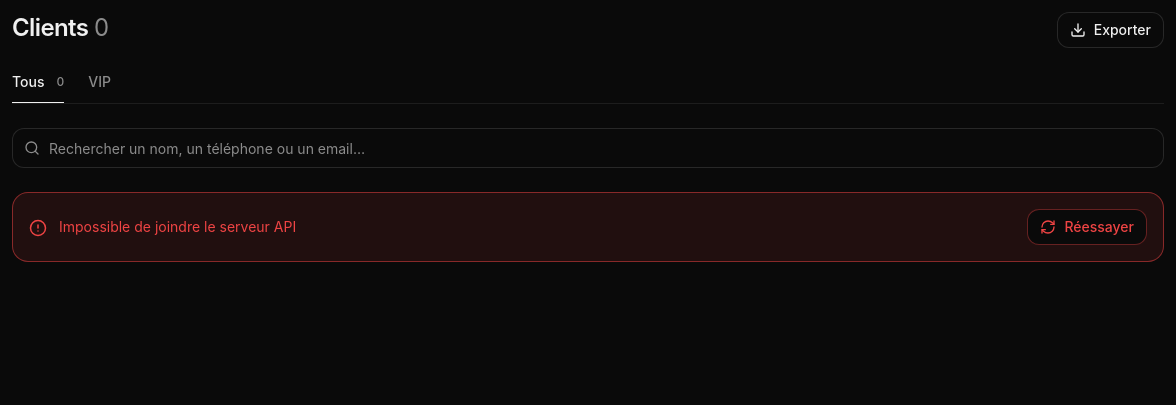
Test case: CustomersPage › propose un nouvel essai sans afficher une liste vide après une panne API
Expected: the message shows "Impossible de joindre le serveur API", [59,218,296,235]
Expected: the text "Aucun client enregistré" is not shown
Click the button "Réessayer". click: (1087, 227)
box: [1027,209,1147,245]
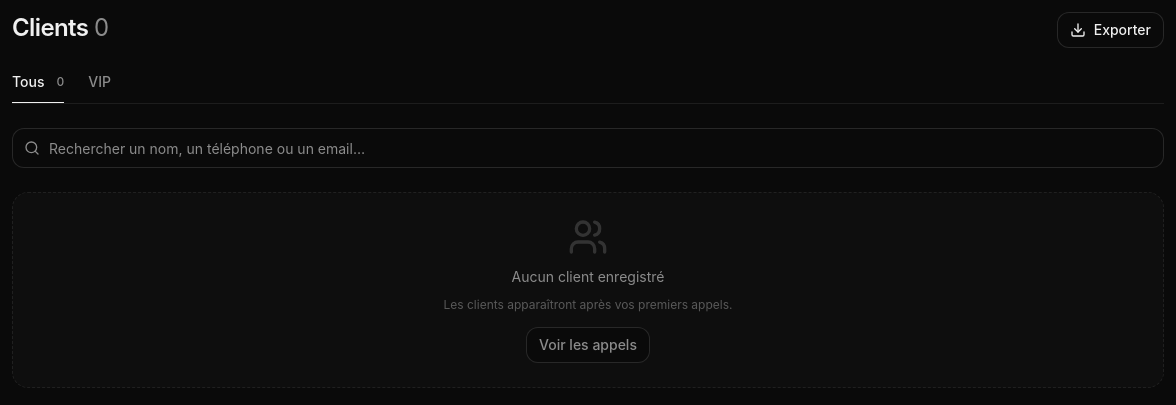
Now the text "Aucun client enregistré" is shown, box [512,267,664,287]
